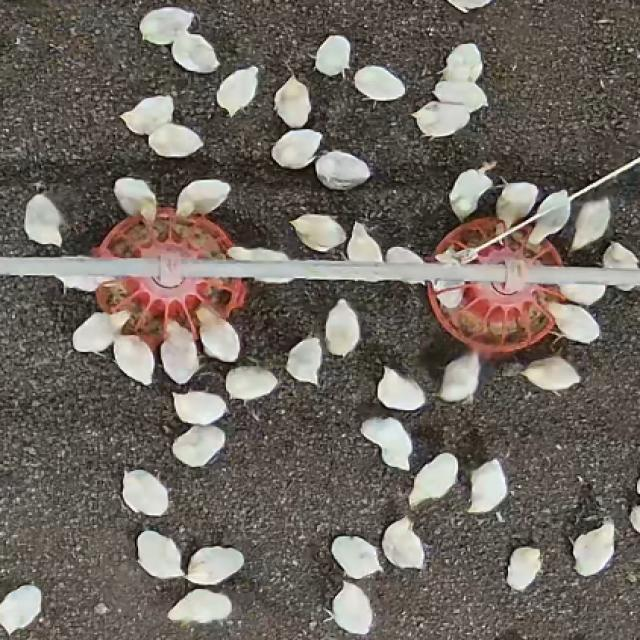broiler: (409, 453, 456, 507), (361, 417, 408, 470), (161, 321, 199, 383), (73, 311, 129, 353), (197, 305, 238, 362), (449, 166, 491, 220), (528, 190, 570, 244), (136, 531, 184, 578), (331, 580, 372, 634), (573, 521, 613, 576), (171, 426, 224, 467), (570, 197, 610, 251), (168, 589, 231, 623), (187, 546, 241, 585), (331, 536, 381, 578), (382, 517, 423, 568), (413, 101, 469, 138), (378, 366, 425, 410), (522, 356, 579, 392), (271, 129, 322, 169), (120, 95, 171, 135), (547, 302, 598, 342), (317, 150, 369, 189), (0, 585, 41, 634), (124, 470, 168, 515), (24, 193, 62, 245), (291, 214, 344, 251), (114, 335, 153, 385), (217, 65, 255, 116), (325, 299, 359, 356), (470, 460, 507, 512), (171, 31, 218, 71), (143, 7, 193, 44), (496, 182, 537, 227), (285, 336, 322, 385), (275, 75, 309, 128), (176, 180, 229, 214), (173, 392, 226, 426), (441, 352, 479, 399), (149, 123, 202, 156), (434, 79, 487, 112), (355, 65, 403, 101), (226, 366, 276, 399), (114, 177, 153, 217), (507, 546, 540, 590), (443, 43, 481, 79), (315, 35, 349, 75), (346, 223, 381, 261), (429, 280, 463, 308), (602, 241, 637, 268), (227, 245, 288, 260), (385, 247, 423, 263), (259, 278, 290, 282), (617, 285, 632, 291), (402, 280, 420, 284)
pipe: (171, 258, 510, 282), (0, 255, 165, 275), (529, 265, 638, 285)
rice: (62, 192, 247, 353), (428, 282, 567, 356), (431, 217, 504, 260), (475, 228, 558, 265)
